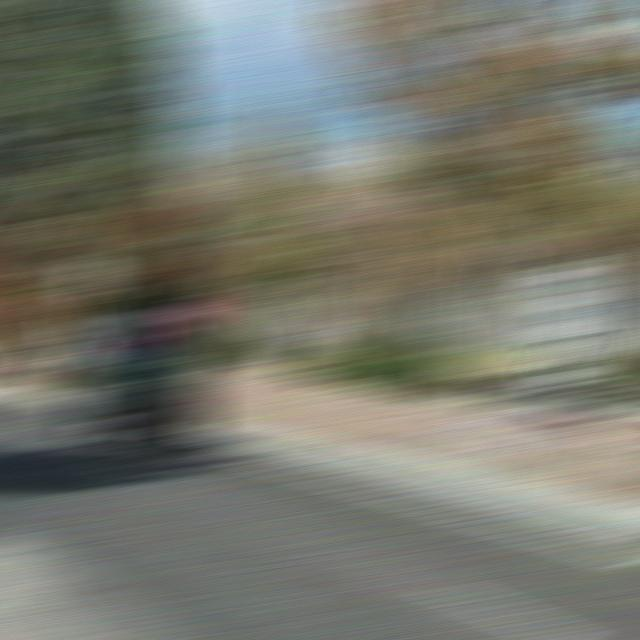speedLimit20: (531, 272, 596, 387)
